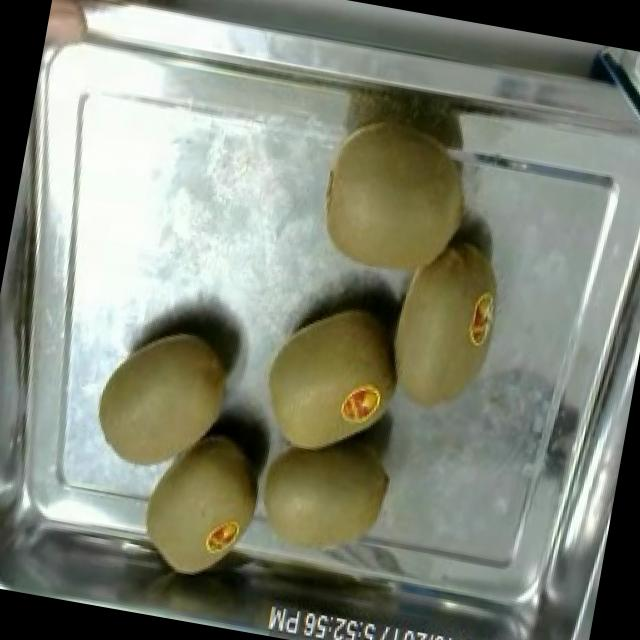Fruit: (301, 100, 488, 294), (370, 218, 519, 428), (77, 307, 247, 491), (240, 288, 407, 472), (122, 408, 272, 602), (238, 410, 402, 574), (51, 0, 184, 25)
